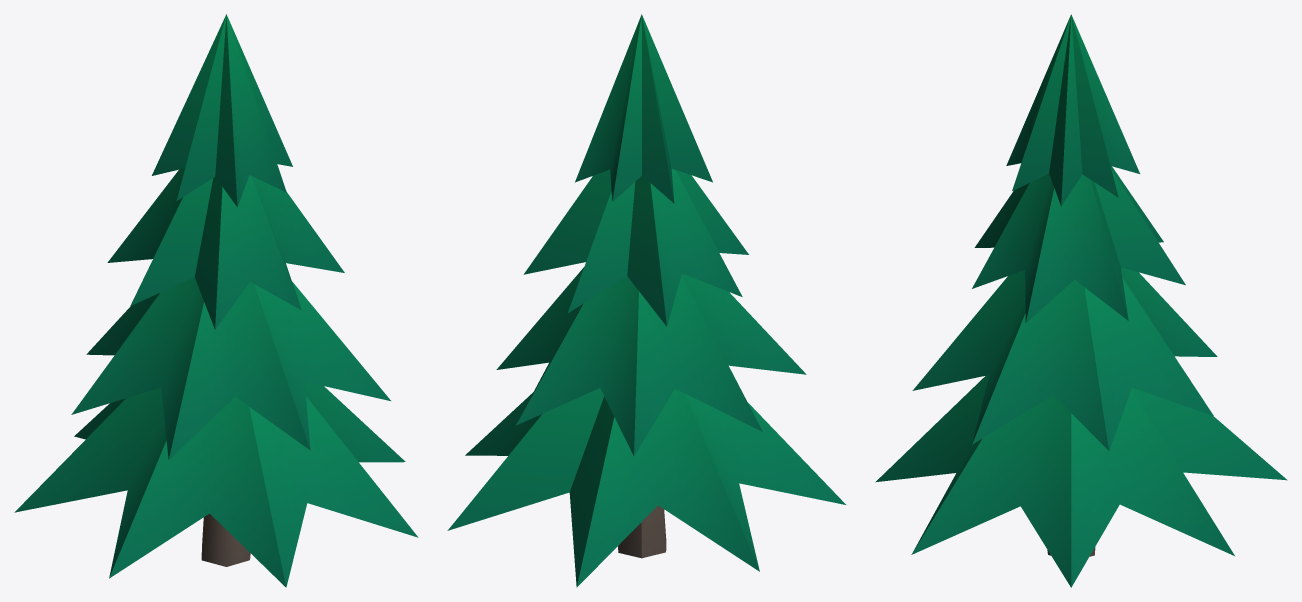
File: pine_valley.glb
3 views of the same model, side by side, from view 1: azimuth 30°, elevation 25°; view 2: azimuth 150°, elevation 25°; view 3: azimuth 270°, elevation 25° (orthographic).
Parts seen in each view (by area): view 1: pine_valley; view 2: pine_valley; view 3: pine_valley.
Boxes of the visible parts, x1,y1,x2,y2 form: pine_valley: [14, 14, 418, 587]; pine_valley: [447, 14, 845, 587]; pine_valley: [875, 14, 1287, 587].
Bounding box in the file's own units: 3.08 × 4.61 × 3.21.
1 material, 1 textured.
